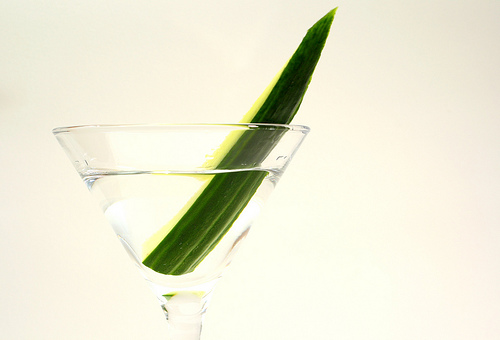cucumber: (143, 6, 338, 301)
